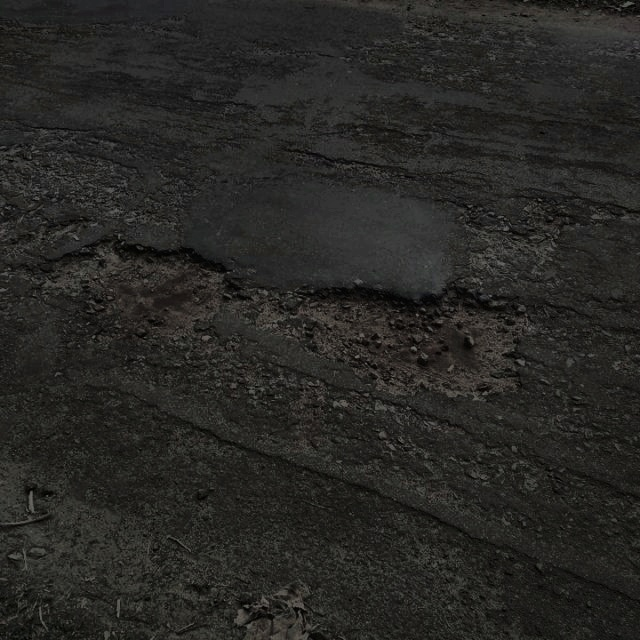Pothole: (274, 280, 532, 402), (33, 232, 249, 342)
